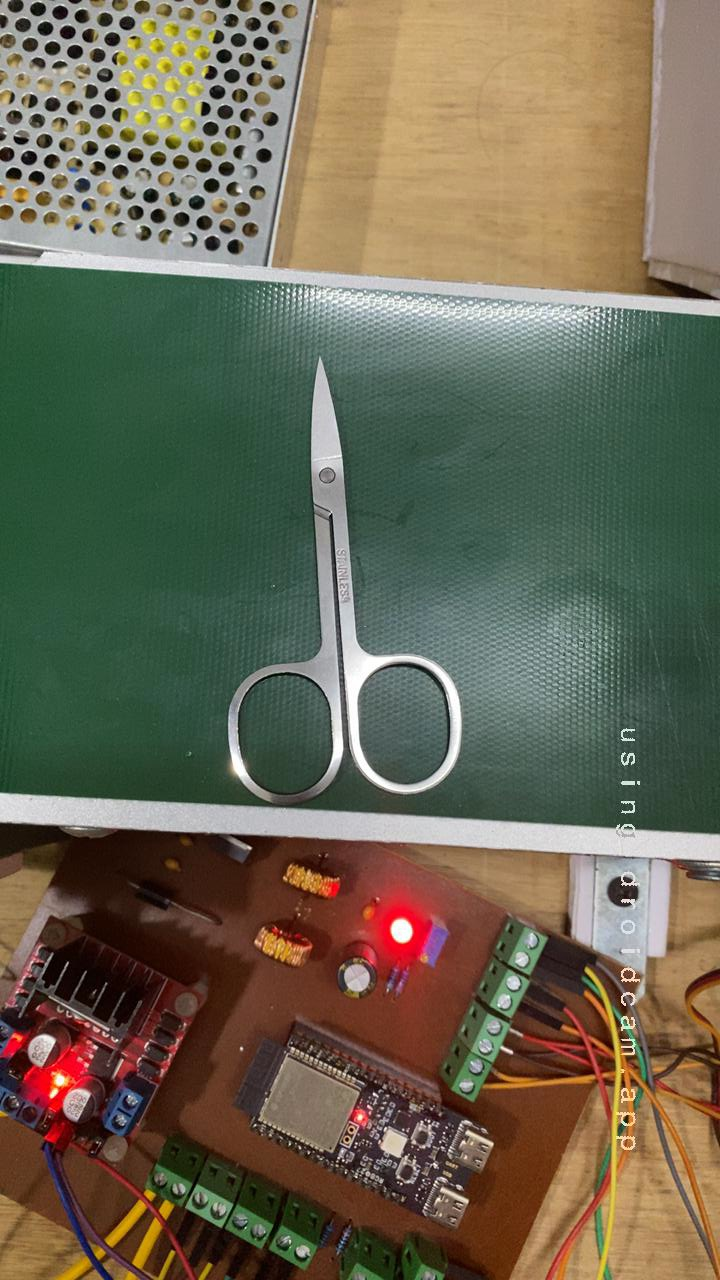scissor: (177, 347, 488, 814)
